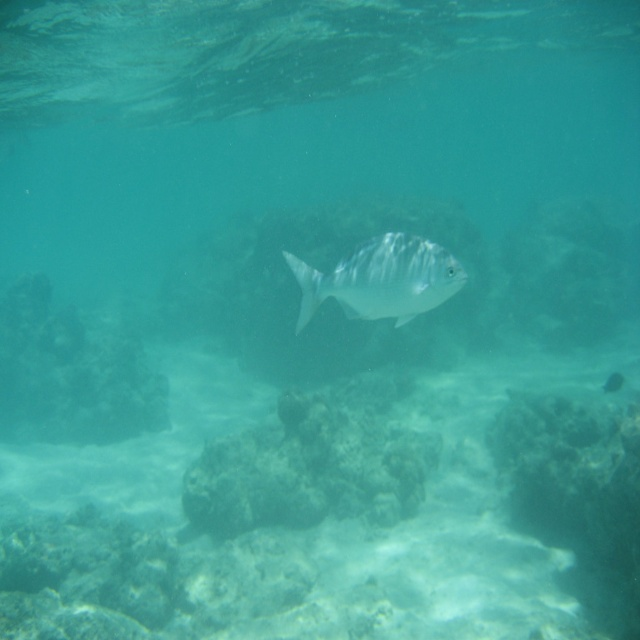Fish: (280, 225, 476, 352), (601, 371, 624, 391)
